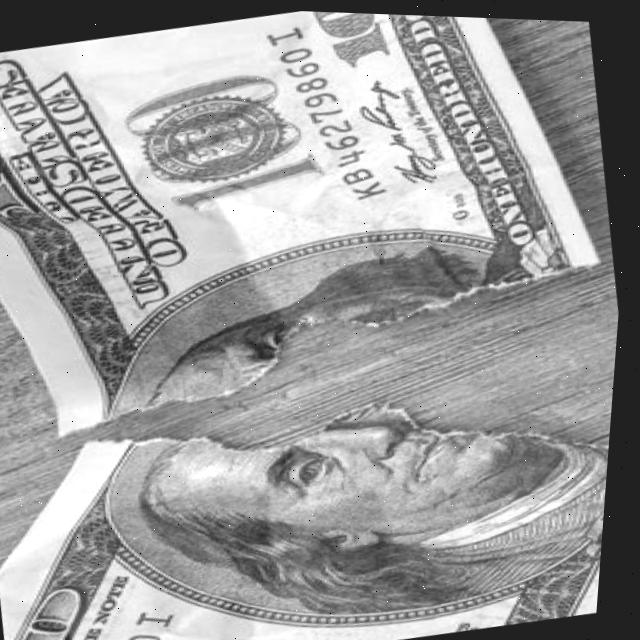banknote: (0, 0, 640, 640), (393, 20, 559, 261), (0, 48, 52, 238), (290, 9, 411, 78)
